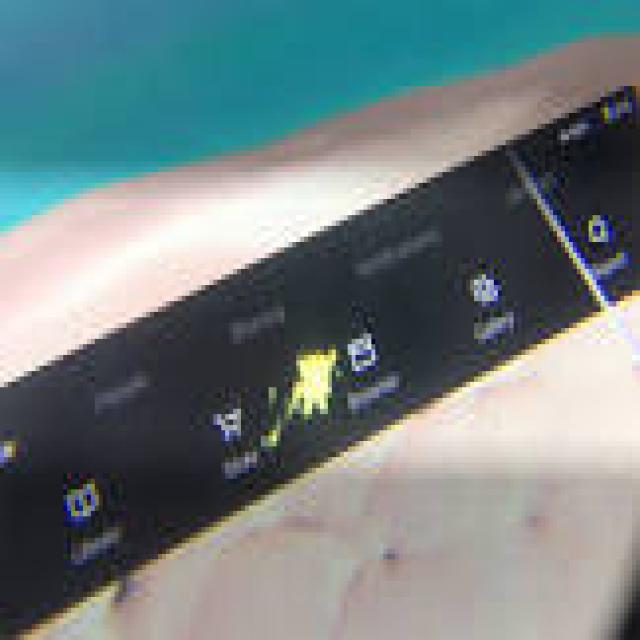dead_pixel: (265, 337, 344, 457)
